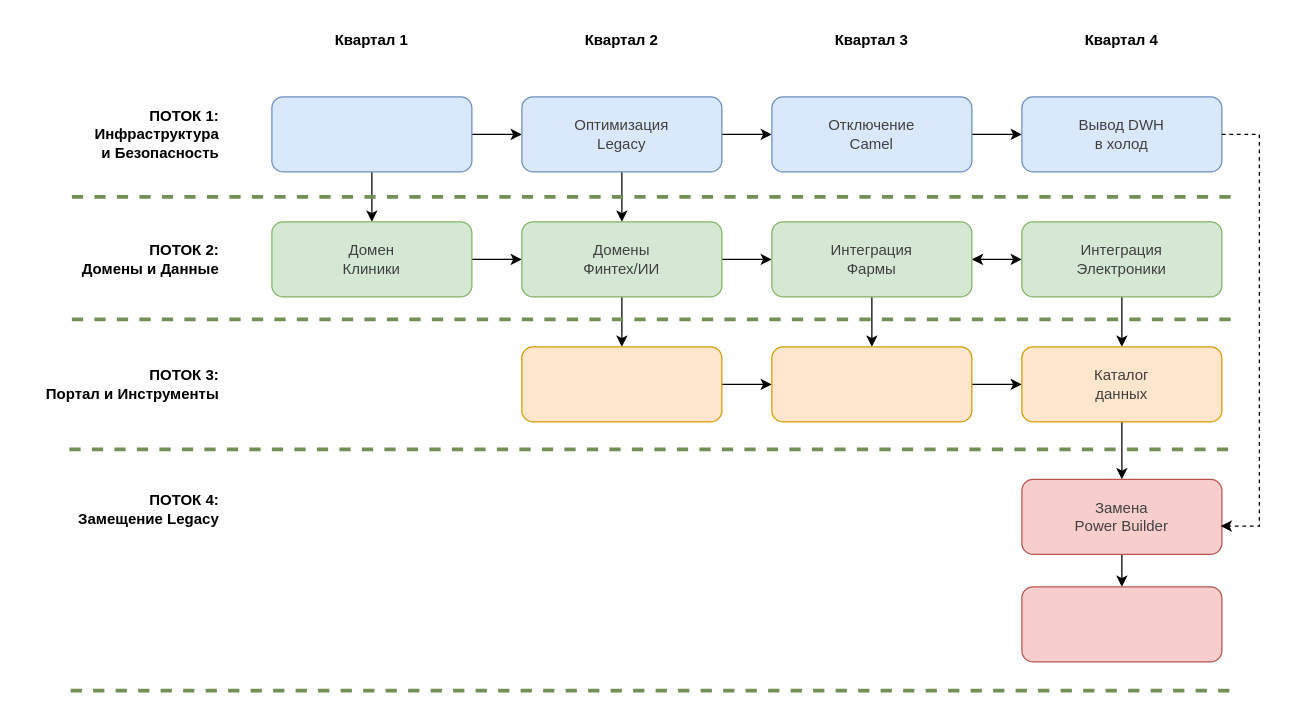
The diagram is 1291 pixels wide and 715 high, and some of its shapes have lost their labels. Here are the shapes that lost their labels. From the top down, the centre of each, then its label:
point 371,134: CDC и дублирование
point 621,384: Портал MVP
point 871,384: Расширение портала
point 1121,624: Завершение
